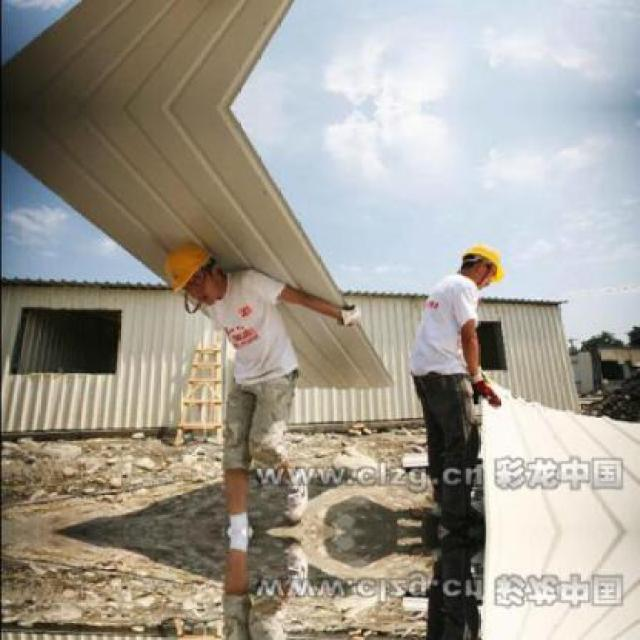helmet: (160, 240, 228, 304), (452, 238, 502, 288)
